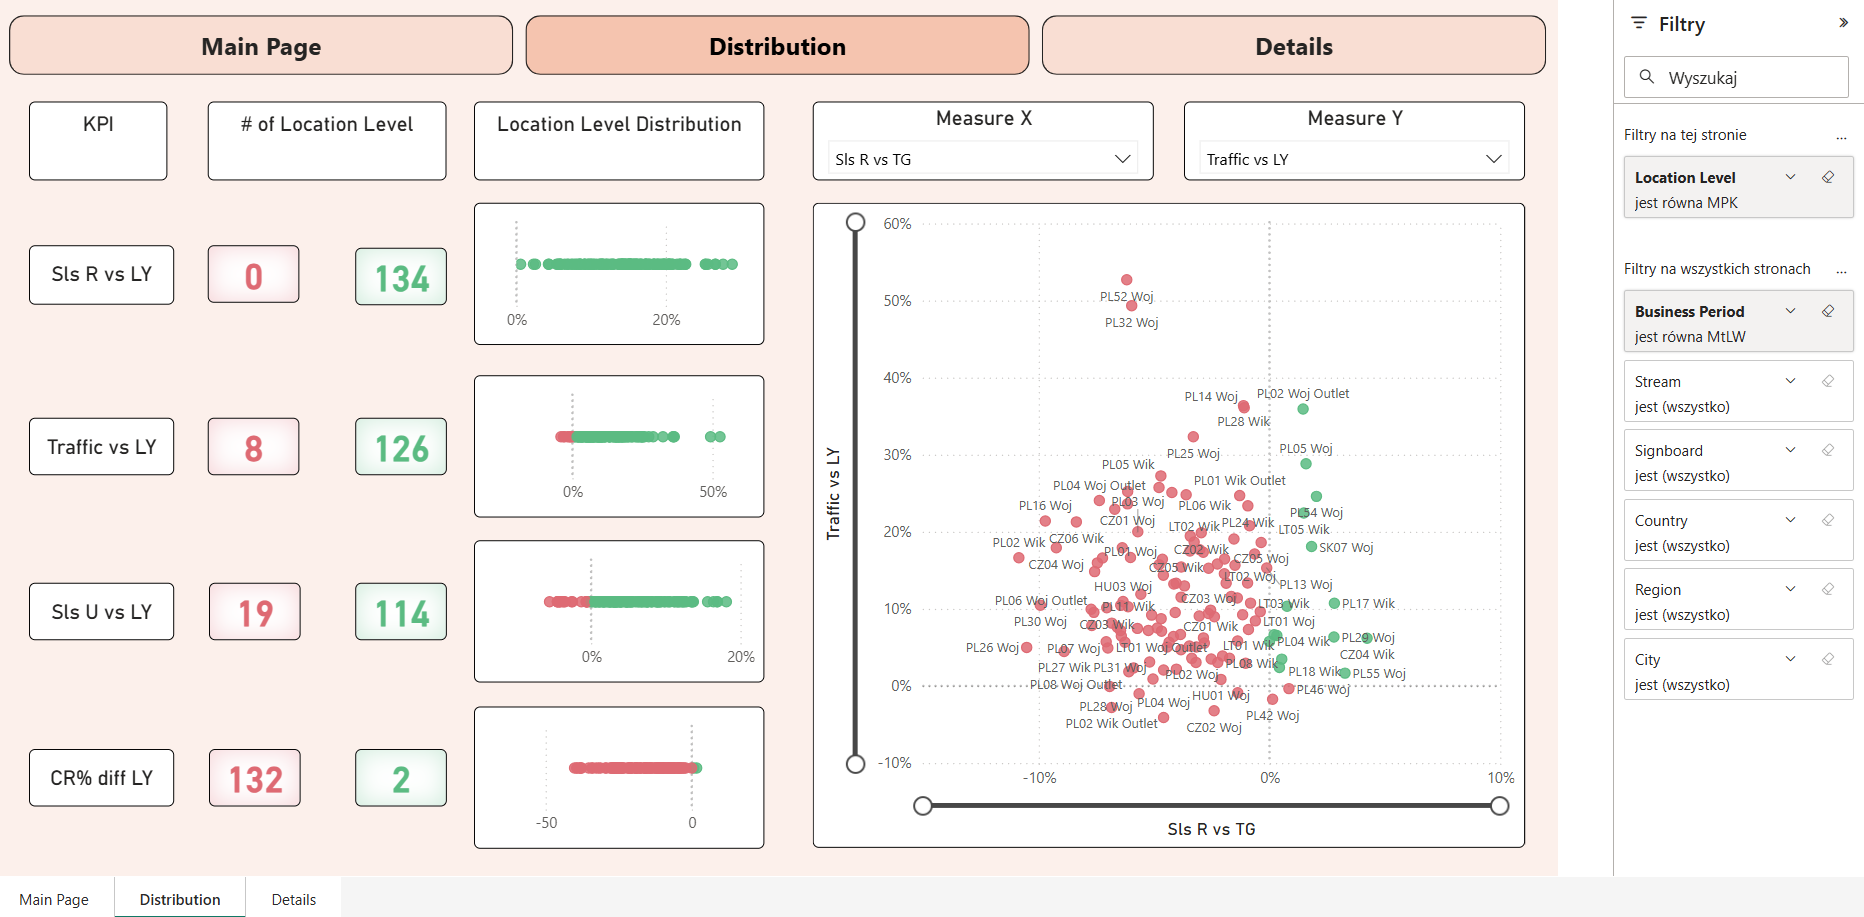

The page's visual inventory and layout, read from the dashboard file:
{"tool":"powerbi","page":{"name":"Distribution","canvas":[1280,720],"ordinal":1},"visuals":[{"type":"group","id":"g1","title":"Group 1","box":[24.7,83.7,603.8,613.4],"z":0,"group":"g3"},{"type":"scatterChart","fields":{"Category":["corrected_sales_calendar.Store"],"X":["corrected_sales_calendar.Sls R vs LY"]},"box":[389.7,167.1,238.8,117],"z":0,"group":"g1"},{"type":"textbox","box":[389.7,83.7,238.8,64.6],"z":1000,"group":"g1"},{"type":"group","id":"g2","title":"Group 2","box":[668.3,83.7,584.6,613.4],"z":1000,"group":"g3"},{"type":"slicer","title":"Measure X","fields":{"Values":["Measure X.Measure X"]},"box":[668.3,83.7,279.9,64.6],"z":1000,"group":"g2"},{"type":"textbox","box":[171.5,83.7,196.2,64.6],"z":2000,"group":"g1"},{"type":"slicer","title":"Measure Y","fields":{"Values":["Measure Y.Measure Y"]},"box":[972.9,83.7,279.9,64.6],"z":2000,"group":"g2"},{"type":"textbox","box":[24.7,83.7,113.9,64.6],"z":3000,"group":"g1"},{"type":"scatterChart","fields":{"X":["corrected_sales_calendar.Sls R vs TG"],"Y":["corrected_sales_calendar.Traffic vs LY"],"Category":["corrected_sales_calendar.Store"]},"box":[668.3,167.1,584.6,530],"z":3000,"group":"g2"},{"type":"textbox","box":[24.7,202.1,119.4,48.4],"z":4000,"group":"g1"},{"type":"scatterChart","fields":{"Category":["corrected_sales_calendar.Store"],"X":["corrected_sales_calendar.Traffic vs LY"]},"box":[389.7,308.3,238.8,117],"z":5000,"group":"g1"},{"type":"scatterChart","fields":{"Category":["corrected_sales_calendar.Store"],"X":["corrected_sales_calendar.Sls U vs LY"]},"box":[389.7,444.2,238.8,117],"z":6000,"group":"g1"},{"type":"scatterChart","fields":{"Category":["corrected_sales_calendar.Store"],"X":["corrected_sales_calendar.CR diff LY"]},"box":[389.7,580.1,238.8,117],"z":7000,"group":"g1"},{"type":"card","fields":{"Values":["corrected_sales_calendar.CountPositiveLocations"]},"box":[292.3,203.4,75.5,47.1],"z":8000,"group":"g1"},{"type":"card","fields":{"Values":["corrected_sales_calendar.Count Level Locations Sls R vs LY < 0"]},"box":[171.5,202.1,75.5,47.1],"z":9000,"group":"g1"},{"type":"textbox","box":[24.7,343.3,119.4,47.1],"z":10000,"group":"g1"},{"type":"card","fields":{"Values":["corrected_sales_calendar.Count Level Locations Traffic vs LY > 0"]},"box":[292.3,343.3,75.5,47.1],"z":11000,"group":"g1"},{"type":"card","fields":{"Values":["corrected_sales_calendar.Count Level Locations Traffic vs LY < 0"]},"box":[171.5,343.3,75.5,47.1],"z":12000,"group":"g1"},{"type":"group","id":"g3","title":"Group 3","box":[24.7,83.7,1228.1,613.4],"z":12012},{"type":"pageNavigator","box":[8.2,13.7,1263.8,49.4],"z":12013},{"type":"textbox","box":[24.7,479.2,119.4,47.1],"z":13000,"group":"g1"},{"type":"card","fields":{"Values":["corrected_sales_calendar.Count Level Locations Sls U vs LY > 0"]},"box":[292.3,479.2,75.5,47.1],"z":14000,"group":"g1"},{"type":"card","fields":{"Values":["corrected_sales_calendar.Count Level Locations Sls U vs LY < 0"]},"box":[172.9,479.2,75.5,47.1],"z":15000,"group":"g1"},{"type":"textbox","box":[24.7,615,119.4,47.1],"z":16000,"group":"g1"},{"type":"card","fields":{"Values":["corrected_sales_calendar.Count Level Locations CR diff LY > 0"]},"box":[292.3,615,75.5,47.1],"z":17000,"group":"g1"},{"type":"card","fields":{"Values":["corrected_sales_calendar.Count Level Locations CR diff LY < 0"]},"box":[172.9,615,75.5,47.1],"z":18000,"group":"g1"}]}

Visuals, with their boxes on the page's 1280x720 design canvas (x1, y1, x2, y2). These are canvas units, not pixel positions in the 1864x917 screenshot, which may show the page scaled, cropped or inside an application window:
"Group 1" group: x1=25 y1=84 x2=628 y2=697
scatterChart - corrected_sales_calendar.Store x corrected_sales_calendar.Sls R vs LY: x1=390 y1=167 x2=628 y2=284
textbox: x1=390 y1=84 x2=628 y2=148
"Group 2" group: x1=668 y1=84 x2=1253 y2=697
"Measure X" slicer: x1=668 y1=84 x2=948 y2=148
textbox: x1=172 y1=84 x2=368 y2=148
"Measure Y" slicer: x1=973 y1=84 x2=1253 y2=148
textbox: x1=25 y1=84 x2=139 y2=148
scatterChart - corrected_sales_calendar.Sls R vs TG x corrected_sales_calendar.Traffic vs LY: x1=668 y1=167 x2=1253 y2=697
textbox: x1=25 y1=202 x2=144 y2=250
scatterChart - corrected_sales_calendar.Store x corrected_sales_calendar.Traffic vs LY: x1=390 y1=308 x2=628 y2=425
scatterChart - corrected_sales_calendar.Store x corrected_sales_calendar.Sls U vs LY: x1=390 y1=444 x2=628 y2=561
scatterChart - corrected_sales_calendar.Store x corrected_sales_calendar.CR diff LY: x1=390 y1=580 x2=628 y2=697
card - corrected_sales_calendar.CountPositiveLocations: x1=292 y1=203 x2=368 y2=250
card - corrected_sales_calendar.Count Level Locations Sls R vs LY < 0: x1=172 y1=202 x2=247 y2=249
textbox: x1=25 y1=343 x2=144 y2=390
card - corrected_sales_calendar.Count Level Locations Traffic vs LY > 0: x1=292 y1=343 x2=368 y2=390
card - corrected_sales_calendar.Count Level Locations Traffic vs LY < 0: x1=172 y1=343 x2=247 y2=390
"Group 3" group: x1=25 y1=84 x2=1253 y2=697
pageNavigator: x1=8 y1=14 x2=1272 y2=63
textbox: x1=25 y1=479 x2=144 y2=526
card - corrected_sales_calendar.Count Level Locations Sls U vs LY > 0: x1=292 y1=479 x2=368 y2=526
card - corrected_sales_calendar.Count Level Locations Sls U vs LY < 0: x1=173 y1=479 x2=248 y2=526
textbox: x1=25 y1=615 x2=144 y2=662
card - corrected_sales_calendar.Count Level Locations CR diff LY > 0: x1=292 y1=615 x2=368 y2=662
card - corrected_sales_calendar.Count Level Locations CR diff LY < 0: x1=173 y1=615 x2=248 y2=662
